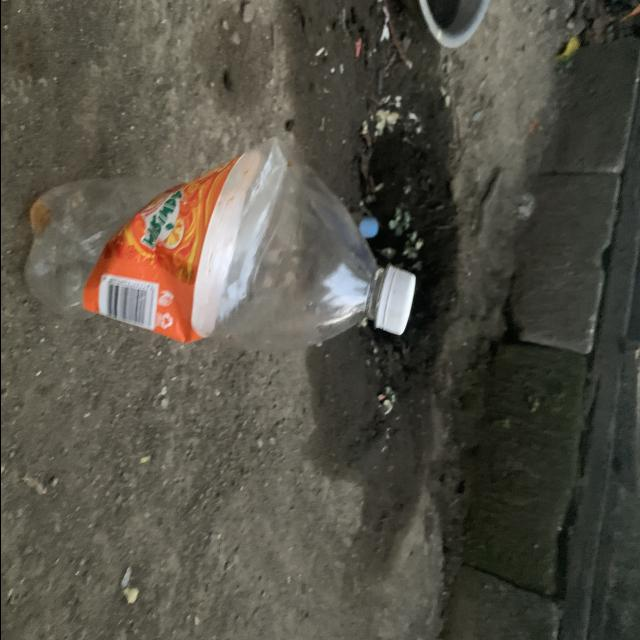Bottle: (24, 139, 414, 351)
